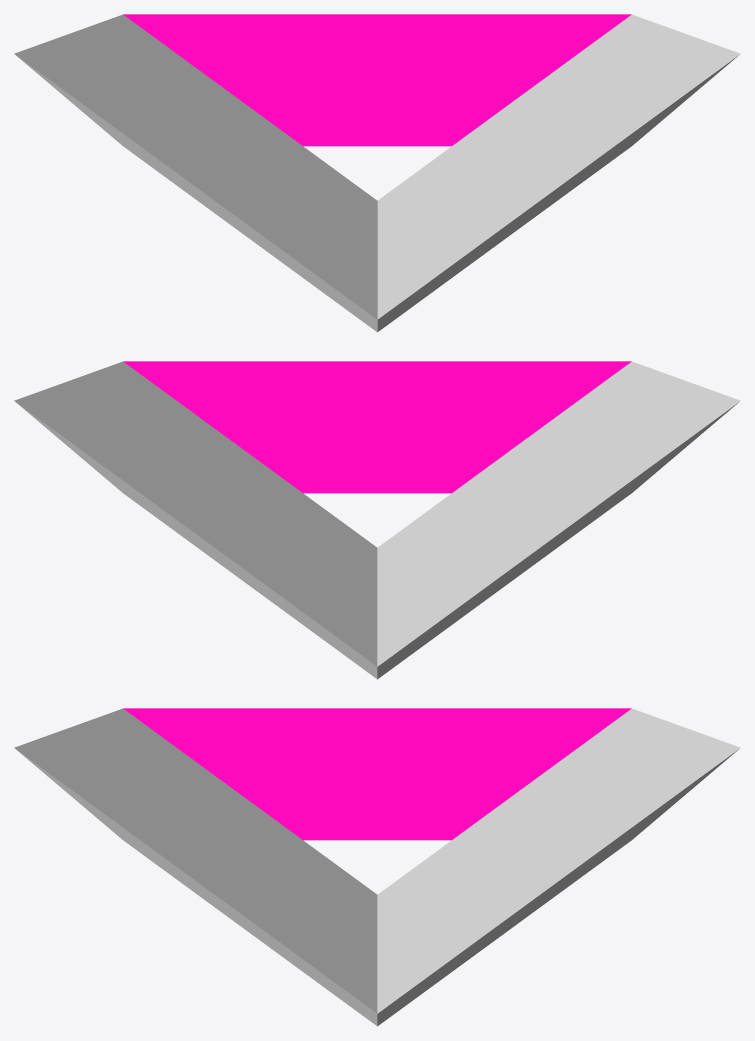
The model's file is enemy4.fbx.
The picture shows the model from 3 angles, top to bottom: view 1: azimuth 30°, elevation 25°; view 2: azimuth 150°, elevation 25°; view 3: azimuth 270°, elevation 25°; orthographic projection.
Visible parts, largest first — view 1: Torus.001; view 2: Torus.001; view 3: Torus.001.
Boxes of the visible parts, x1,y1,x2,y2 form: Torus.001: (14,14,740,332); Torus.001: (14,361,740,679); Torus.001: (14,708,740,1026).
Size of the model in its own units: 187 by 43.3 by 217.
